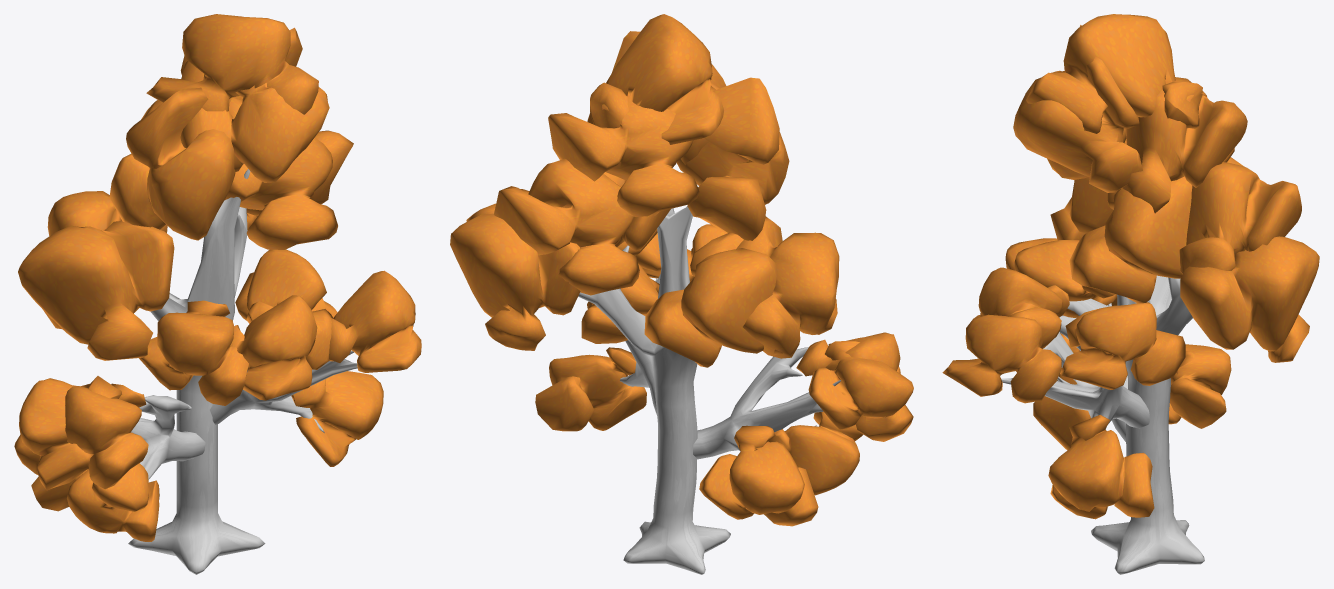
Rendered from Tree7.fbx.
The picture shows the model from 3 angles, left to right: view 1: azimuth 30°, elevation 25°; view 2: azimuth 150°, elevation 25°; view 3: azimuth 270°, elevation 25°; orthographic projection. The views are drawn at different scales.
Visible parts, largest first — view 1: pasted__pCube180; view 2: pasted__pCube180; view 3: pasted__pCube180.
Boxes of the visible parts, x1,y1,x2,y2 form: pasted__pCube180: [14, 14, 421, 574]; pasted__pCube180: [450, 14, 913, 574]; pasted__pCube180: [942, 14, 1319, 574].
Size of the model in its own units: 8.47 by 10.94 by 6.82.
